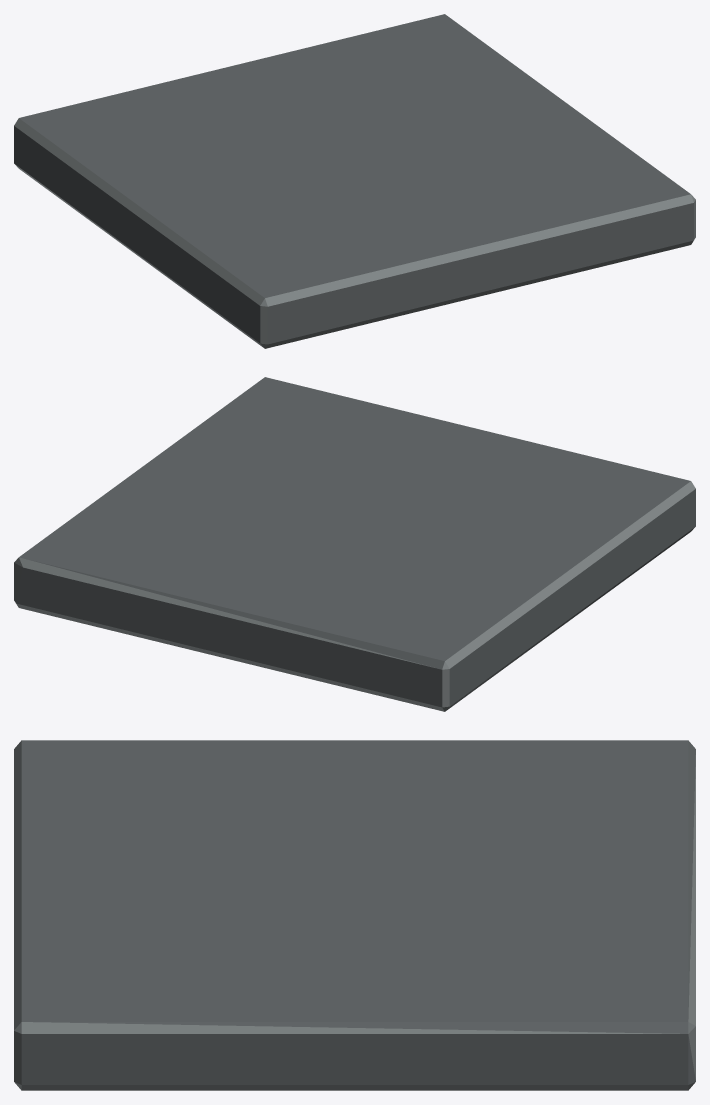
Rendered from MCastle_HardStone_Floor_01.FBX.
3 renders of one model, top to bottom at view 1: azimuth 30°, elevation 25°; view 2: azimuth 150°, elevation 25°; view 3: azimuth 270°, elevation 25°, orthographic. The views are drawn at different scales.
Parts seen in each view (by area): view 1: MCastle_HardStone_Floor_01_LOD0; view 2: MCastle_HardStone_Floor_01_LOD0; view 3: MCastle_HardStone_Floor_01_LOD0.
Part boxes in pixels (<box>): MCastle_HardStone_Floor_01_LOD0: <box>14,14,695,348</box>; MCastle_HardStone_Floor_01_LOD0: <box>14,377,695,711</box>; MCastle_HardStone_Floor_01_LOD0: <box>14,740,695,1090</box>.
Size of what is drawn, in the model's own units: 4.5 by 0.5004 by 4.5.
